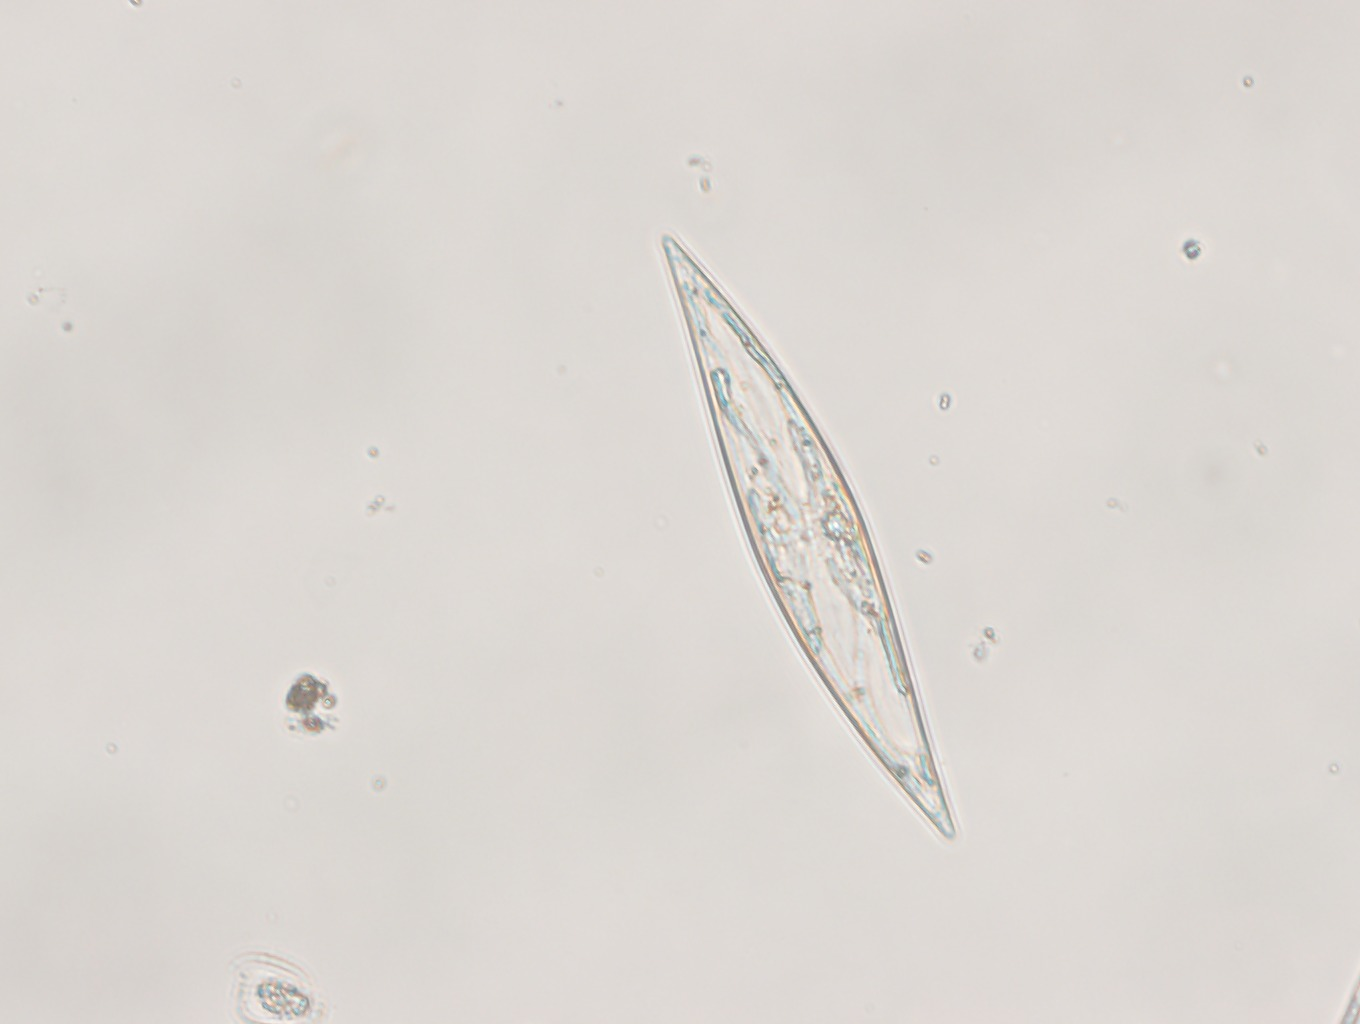pleurosigma pelagicum: (660, 231, 960, 844)
